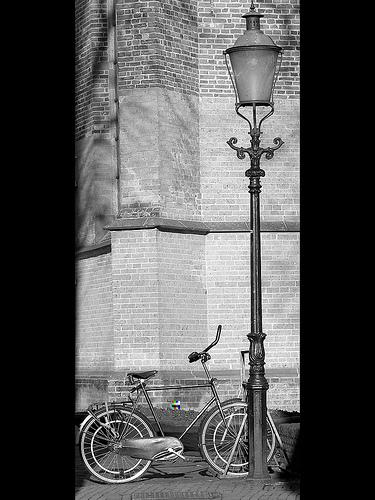car: (72, 323, 280, 488)
